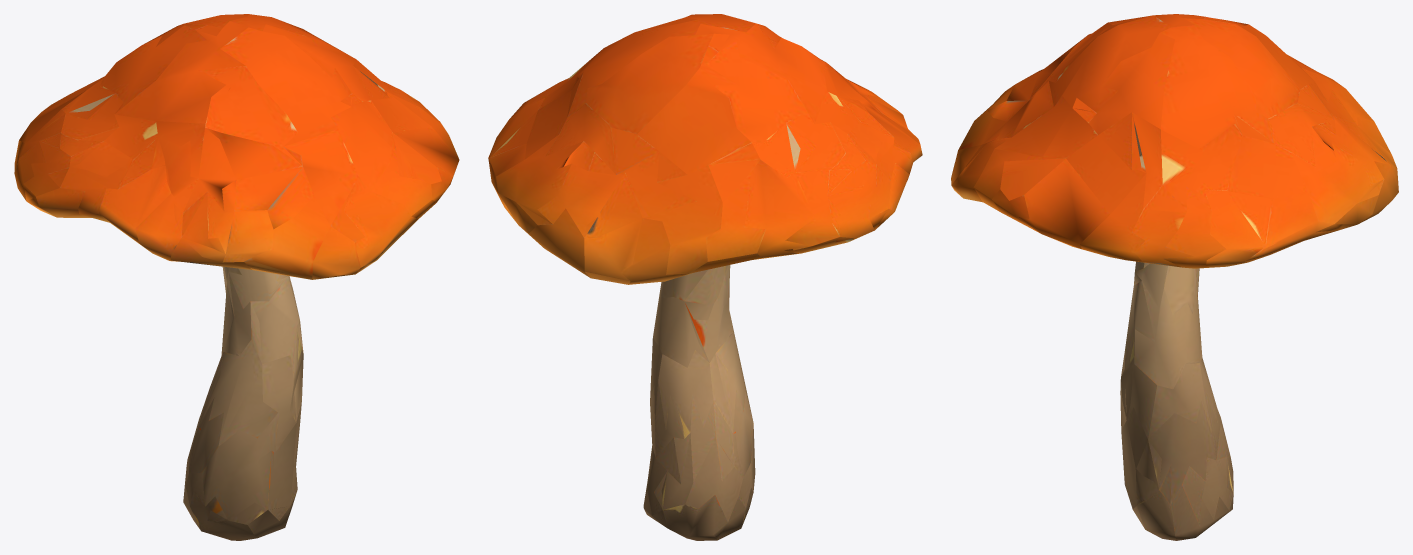
The model's file is cave-mushroom-amber.glb.
3 views of the same model, side by side, from view 1: azimuth 30°, elevation 25°; view 2: azimuth 150°, elevation 25°; view 3: azimuth 270°, elevation 25° (orthographic).
Parts seen in each view (by area): view 1: cave-mushroom-amber, coarse; view 2: cave-mushroom-amber, coarse; view 3: cave-mushroom-amber, coarse.
Part boxes in pixels (x1,y1,x2,y2): cave-mushroom-amber: (14,14,459,540); coarse: (23,22,431,524); cave-mushroom-amber: (488,14,922,540); coarse: (488,35,906,509); cave-mushroom-amber: (951,14,1398,540); coarse: (988,18,1389,505).
Size of the model in its own units: 1.52 by 1.9 by 1.54.
1 material, 1 textured.
